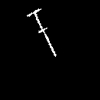double_crochet: (27, 9, 55, 55)
